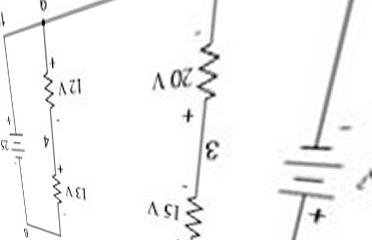resistor: (196, 34, 227, 101), (183, 188, 206, 237), (42, 68, 55, 110), (49, 165, 62, 207)
